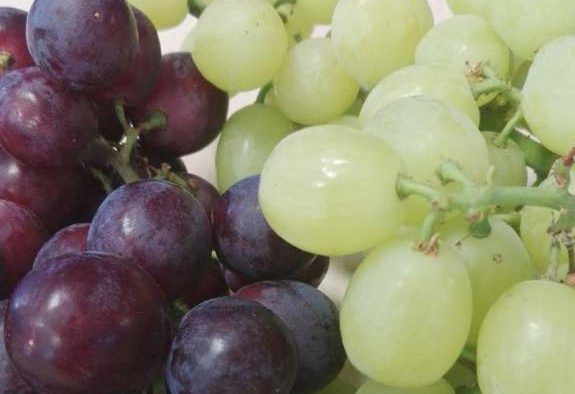Green grapes: (245, 20, 575, 245), (267, 127, 422, 239)
Red Grapes: (6, 8, 262, 369), (17, 259, 162, 394)
